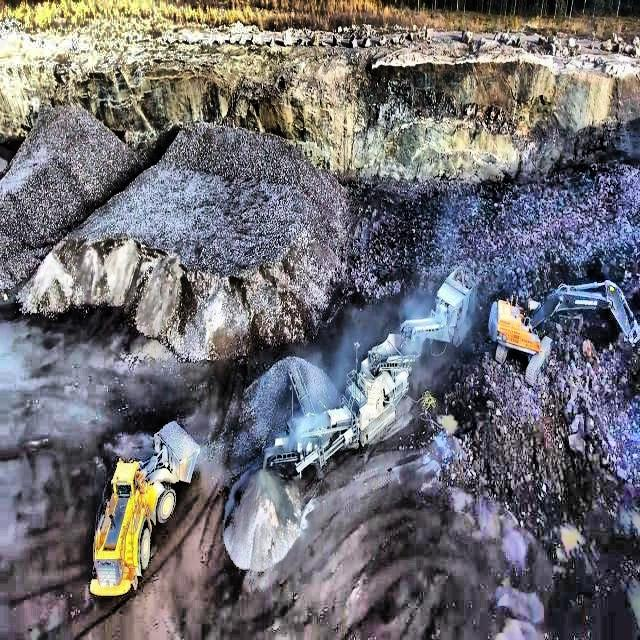bull_dozer/loader/grader: (86, 414, 202, 598)
excavator: (486, 278, 640, 387)
